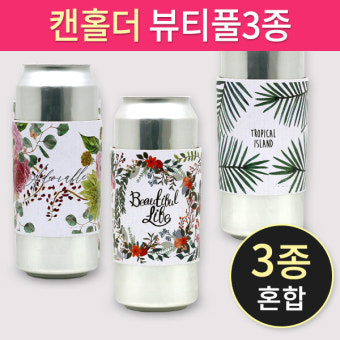paper: (113, 94, 204, 311), (13, 67, 102, 275), (220, 50, 309, 246)
